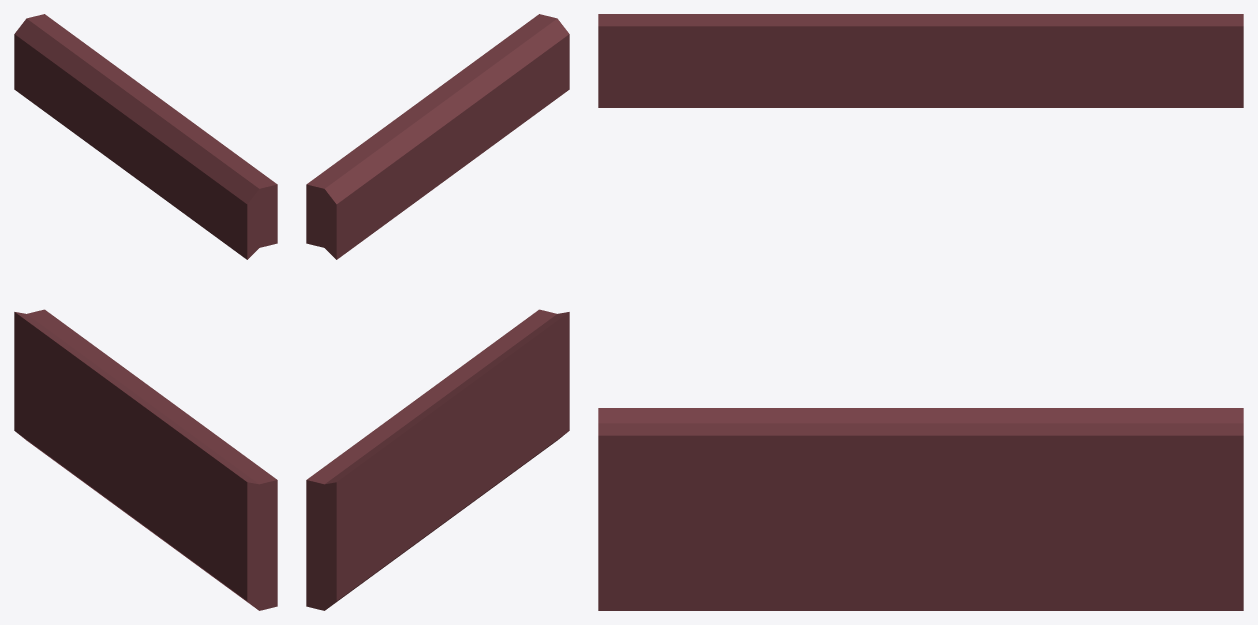
The model's file is WallMiddleGlass.fbx.
3 views of the same model, side by side, from view 1: azimuth 30°, elevation 25°; view 2: azimuth 150°, elevation 25°; view 3: azimuth 270°, elevation 25° (orthographic). The views are drawn at different scales.
Visible parts, largest first — view 1: WallTileGlassPanel_R1; view 2: WallTileGlassPanel_R1; view 3: WallTileGlassPanel_R1.
Boxes of the visible parts, bbox=[...] form: WallTileGlassPanel_R1: bbox=[14, 14, 277, 610]; WallTileGlassPanel_R1: bbox=[306, 14, 569, 610]; WallTileGlassPanel_R1: bbox=[598, 14, 1243, 610].
Size of the model in its own units: 0.0752 by 1 by 1.
